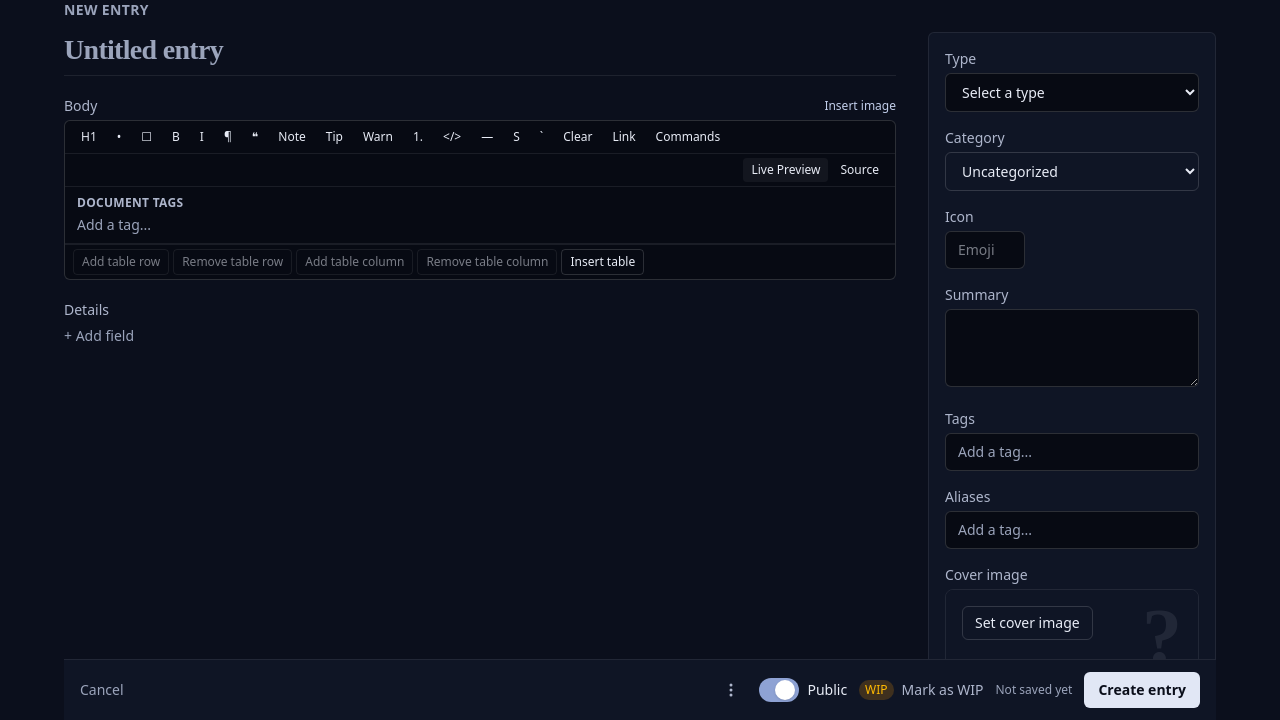
EntryEditor kebab + SaveAsTemplateDialog (28-06) › opens SaveAsTemplateDialog when "Save as template…" is clicked in the dropdown
Note: Click kebab
Click the button named "Entry actions" at (731,690), box top-left (715, 674), bottom-right (747, 706)
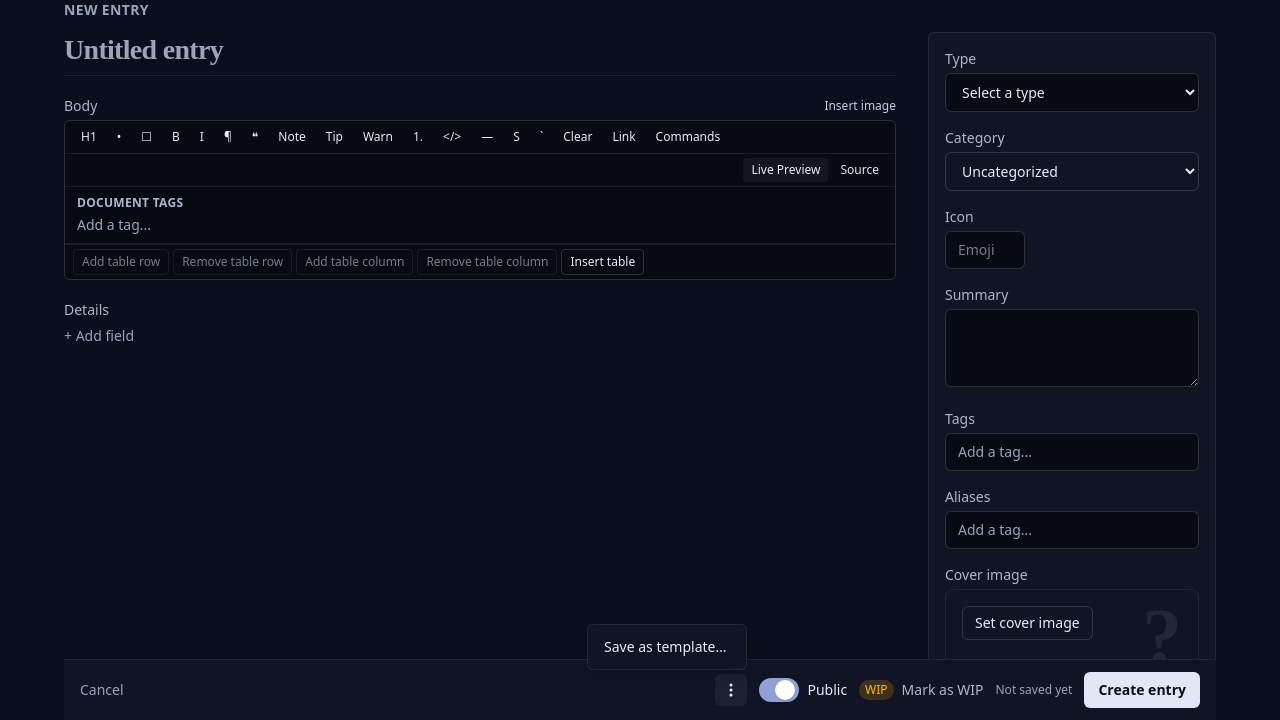
Expected: the menu item "Save as template…" is shown
Note: Click the menu item
Click the menu item "Save as template…" at (665,646), box top-left (604, 637), bottom-right (726, 656)
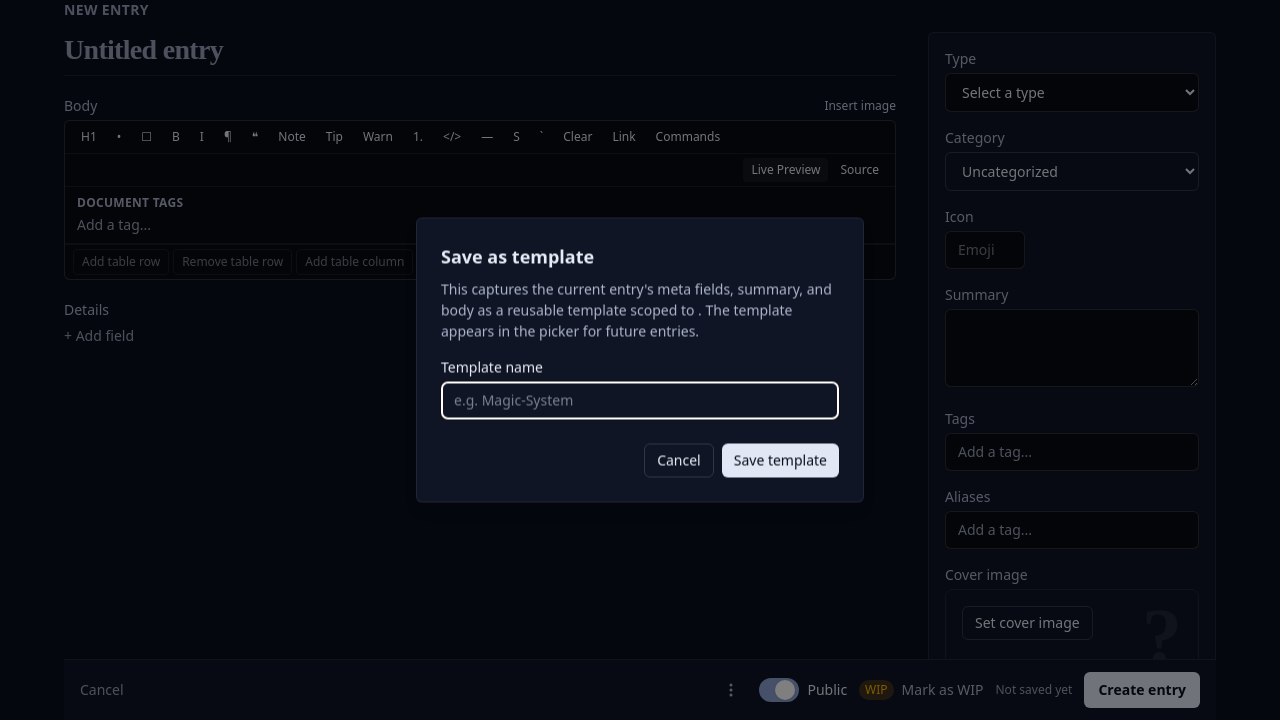
Expected: the heading "Save as template" is shown, top-left (441, 244), bottom-right (594, 268)
Note: Close the dialog to avoid pointer-events leaking into next tests
Click the button "Cancel" at (679,460), box top-left (644, 444), bottom-right (714, 478)
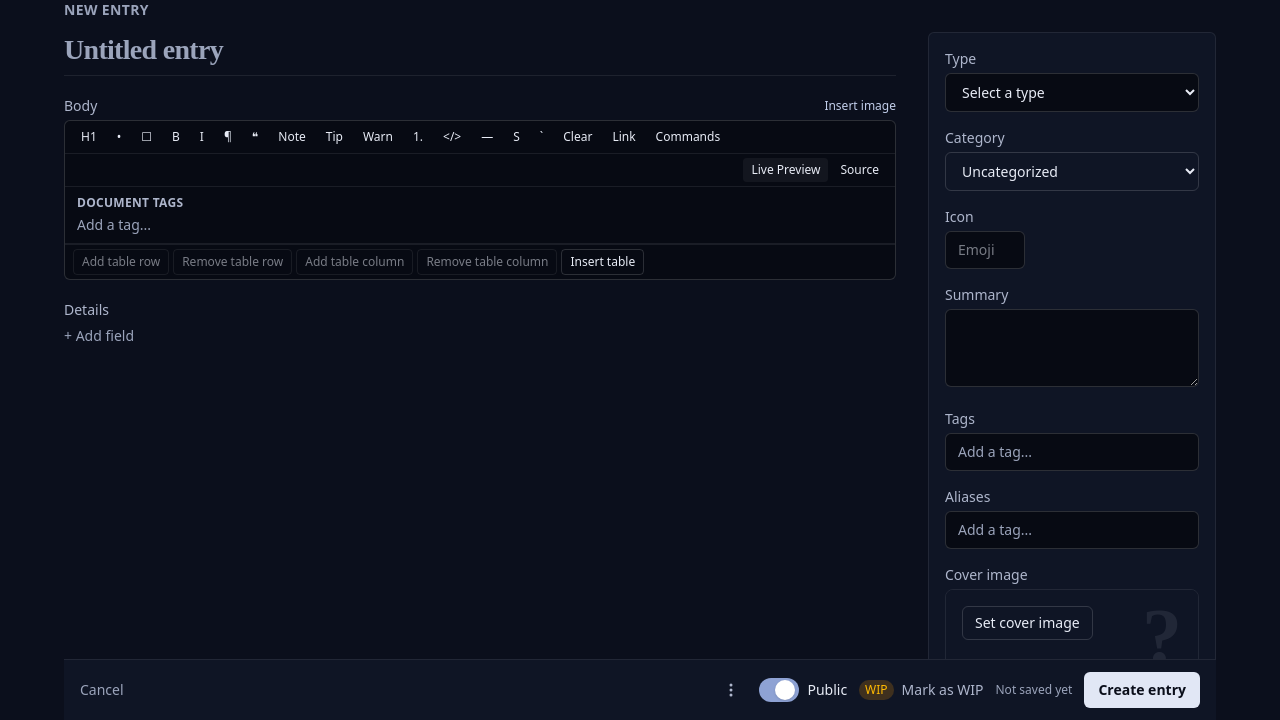
Expected: the heading "Save as template" is gone
